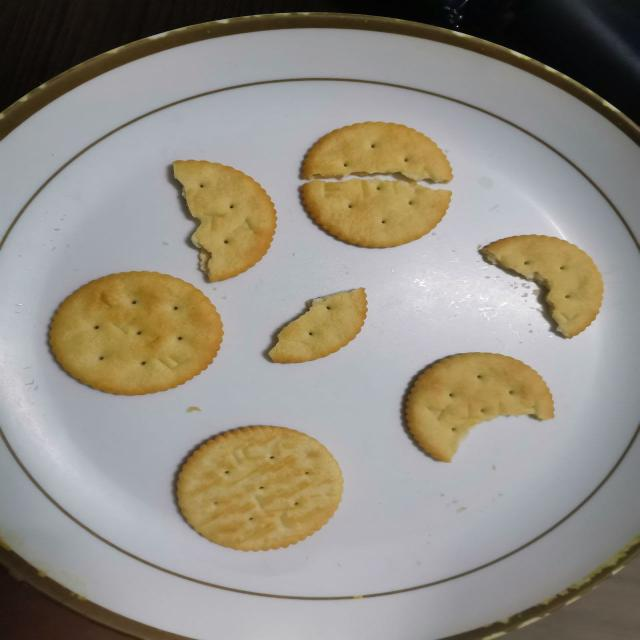broken biscuit: (400, 350, 556, 463), (476, 233, 604, 339), (169, 158, 278, 282), (294, 183, 471, 248), (292, 121, 482, 178), (266, 286, 369, 364)
intact biscuit: (46, 268, 224, 396), (173, 423, 344, 552)
